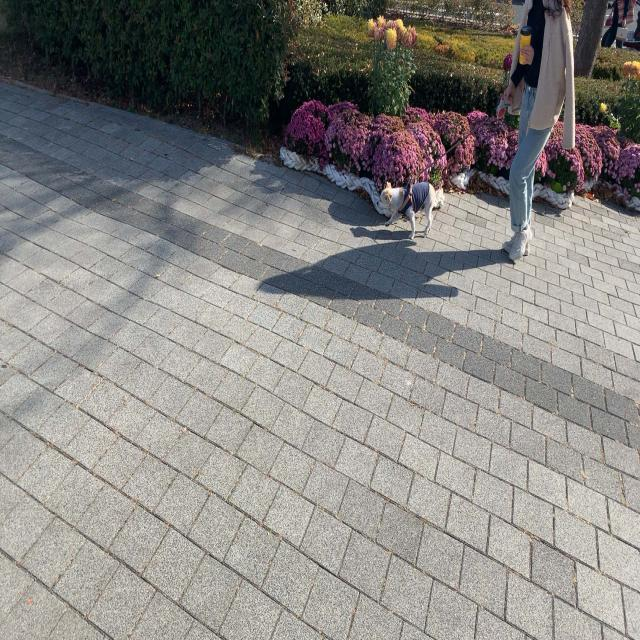Leashed_Dog: (376, 84, 527, 244)
